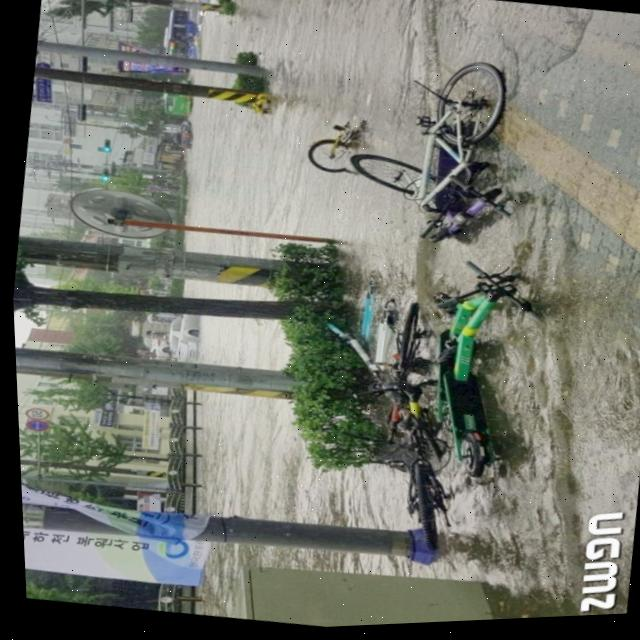kickboard_no: (343, 261, 542, 532)
